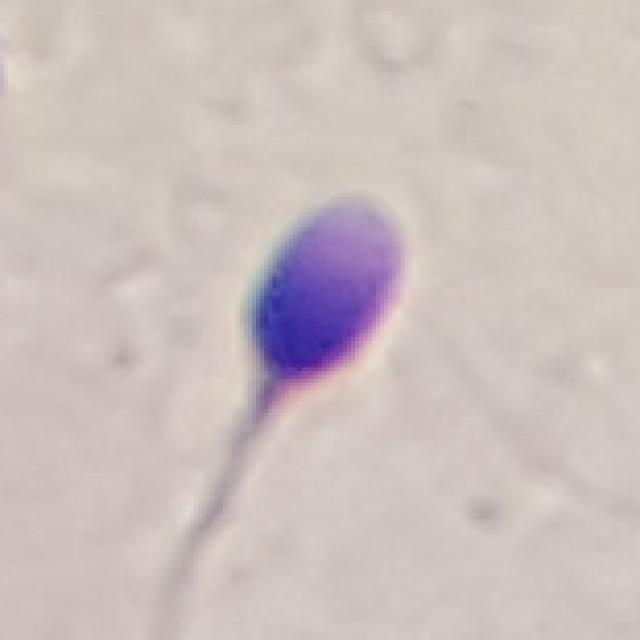normal sperm: (210, 200, 410, 497)
